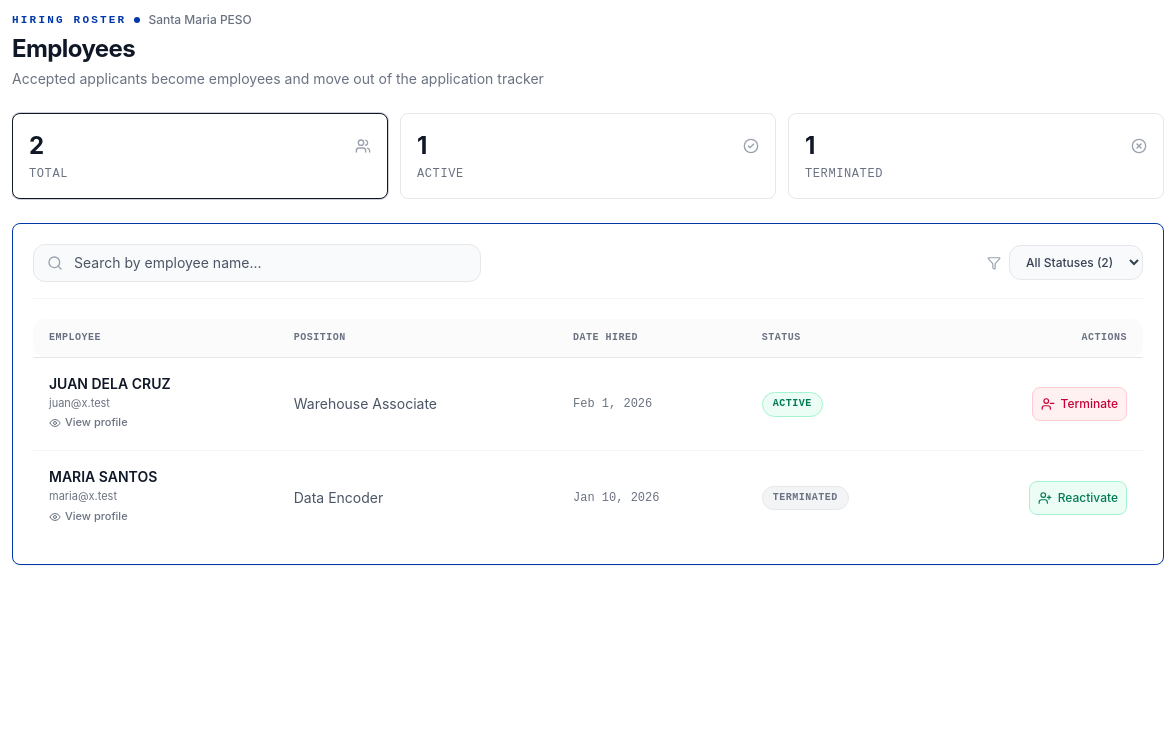
Employees roster › filters the roster to a single status via the status select
Select "Terminated (1)" in the dropdown at (1076, 262), box [1009,245,1143,280]
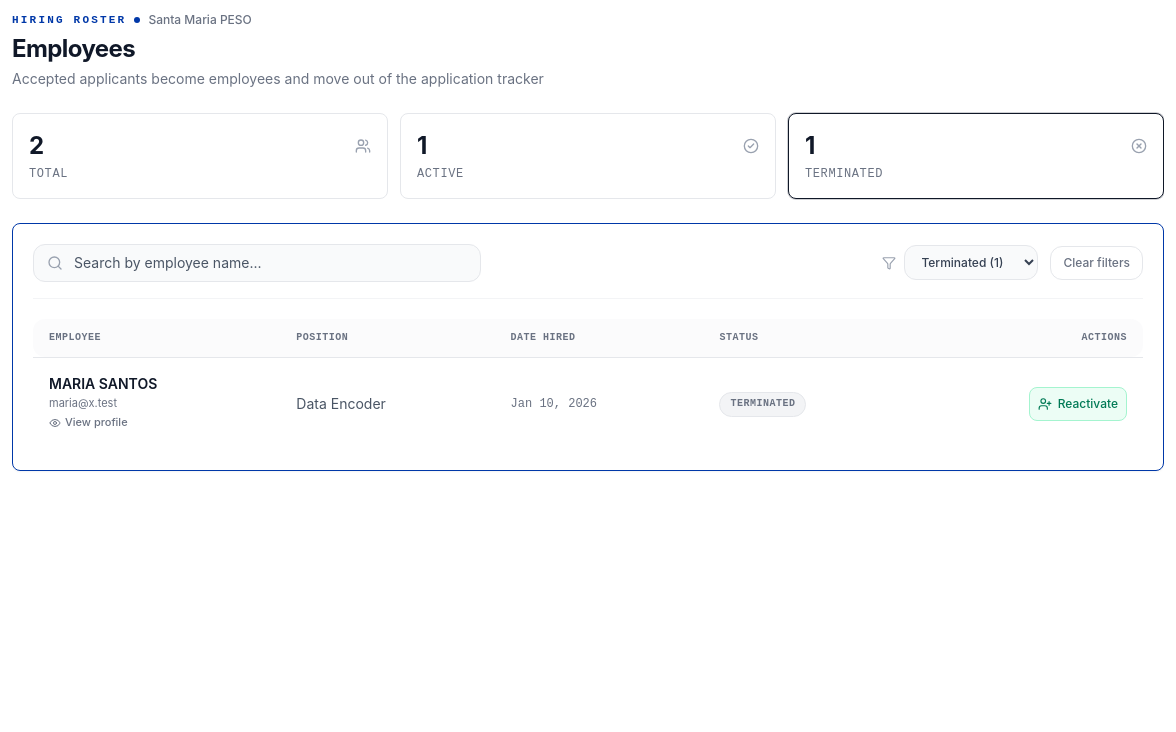
Expected: the button "maria santos" is shown, [49,374,157,394]
Now the button "juan dela cruz" is gone
